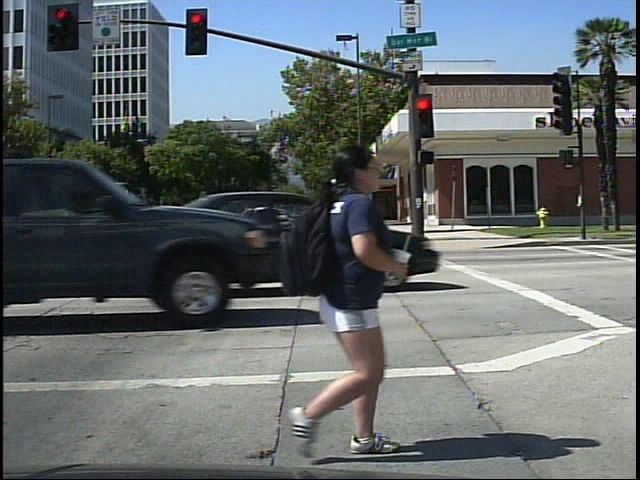person: (277, 132, 408, 463)
